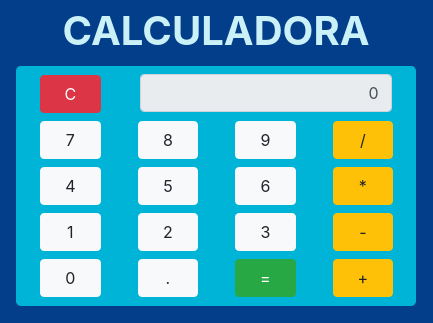
Test: Calculadora › Deve limpar o campo
Click the button "2".
click(168, 232)  # box x1=138 y1=213 x2=198 y2=251
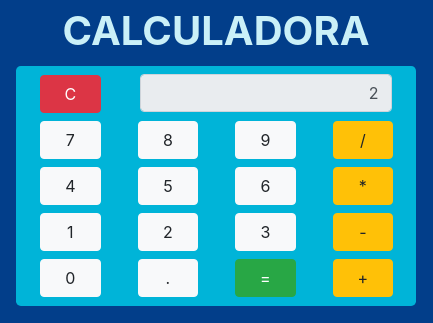
Click the button "C".
click(70, 94)  # box x1=40 y1=75 x2=101 y2=113
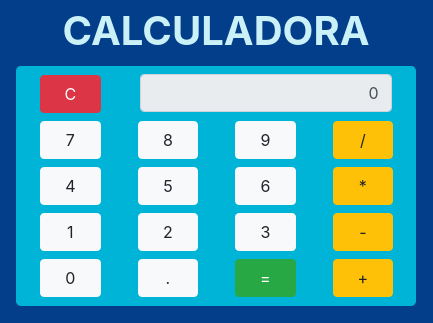
Result: the field with test id "txtNumeros" holds "0" at x1=140 y1=74 x2=392 y2=112
